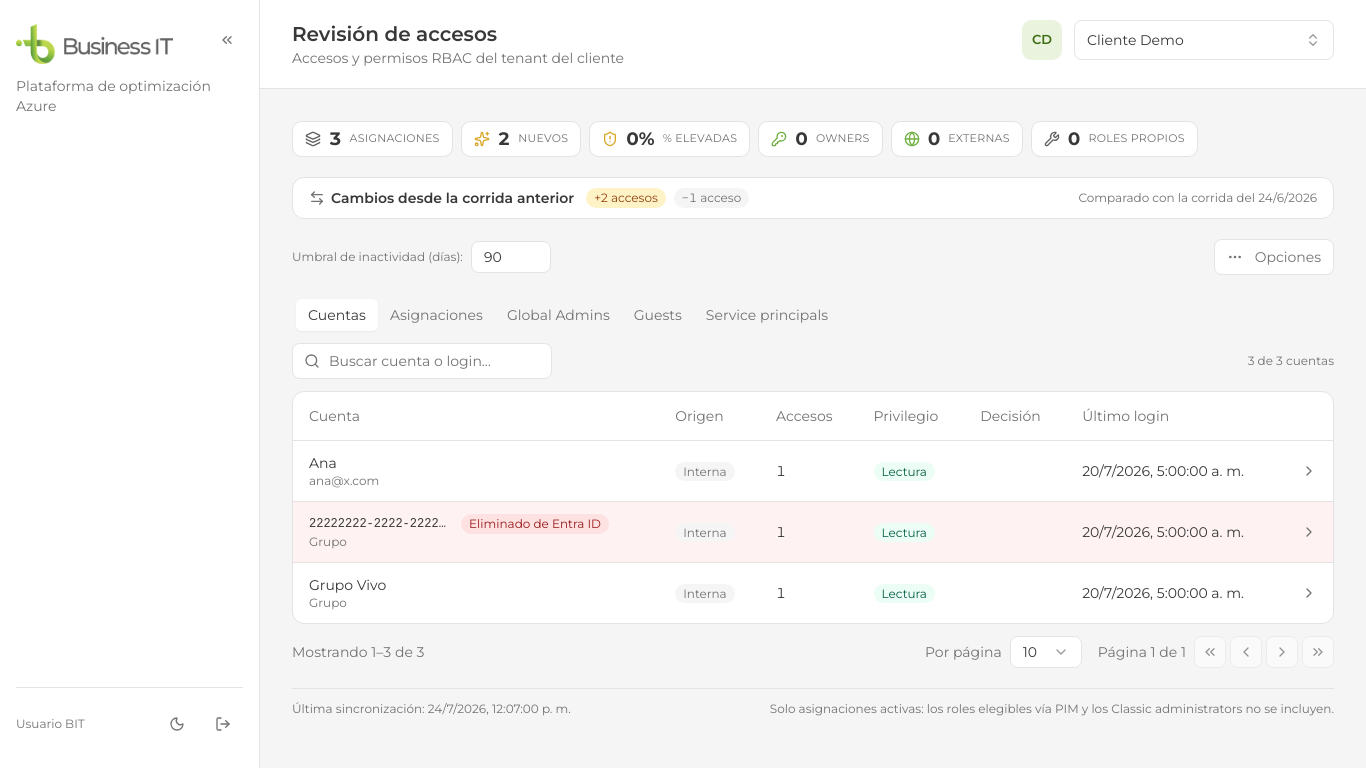
it: expandir una cuenta lista sus asignaciones
This screenshot has width=1366, height=768.
What coordinates should you click on to do the following:
click the button named "Ver asignaciones" in the row of "ana@x.com"
I would click on:
 (1309, 470)
Its box is [1301, 462, 1317, 478].
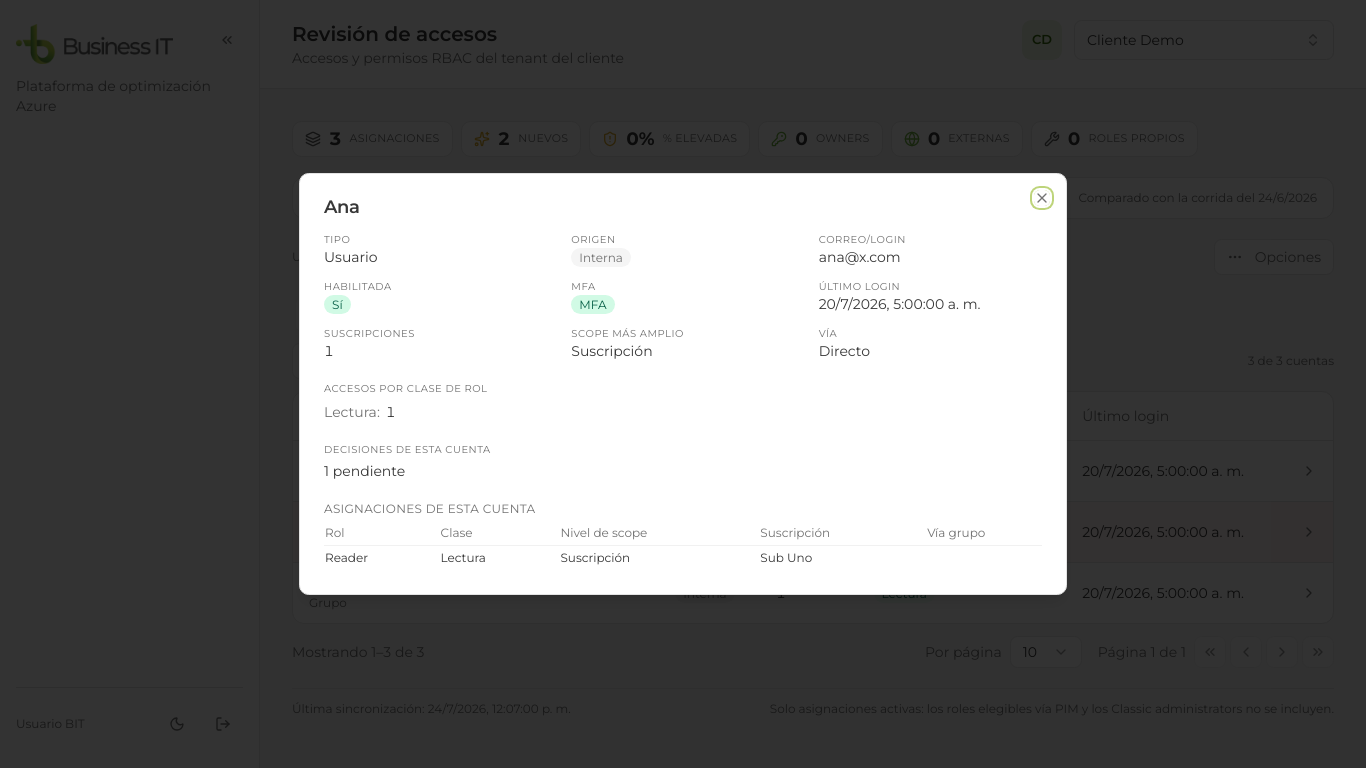
Expected: the text "Asignaciones de esta cuenta" is shown, [324, 501, 535, 516]
